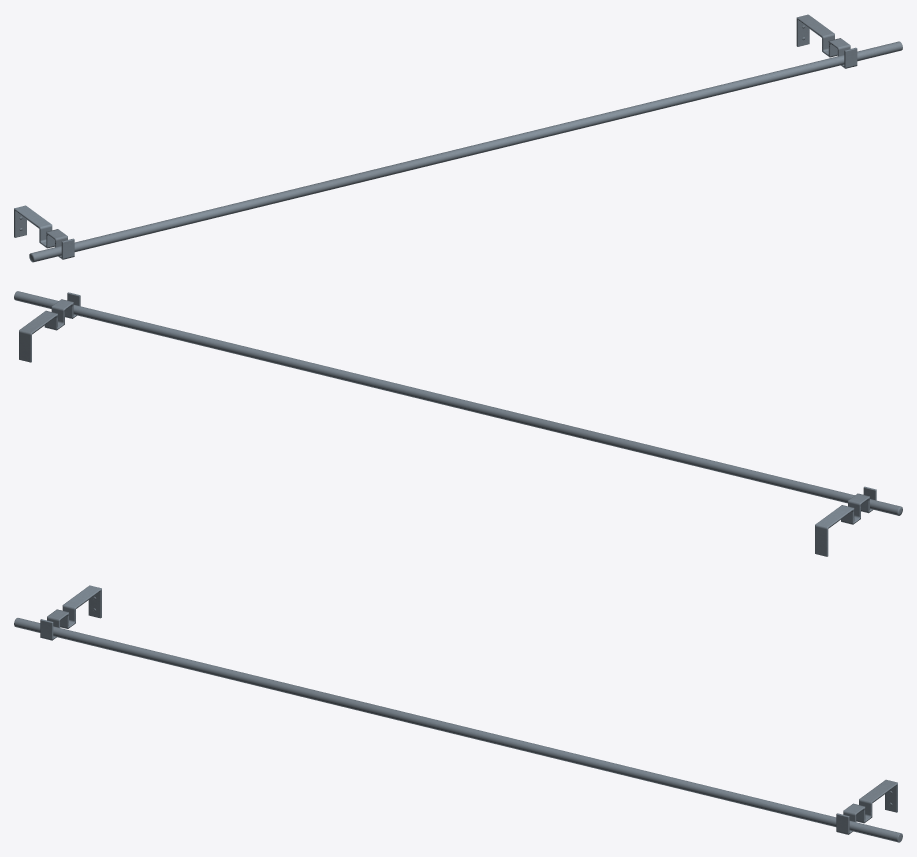
Rendered from curtain_rod4.glb.
3 views of the same model, one above another, from view 1: azimuth 30°, elevation 25°; view 2: azimuth 150°, elevation 25°; view 3: azimuth 330°, elevation 25° (orthographic).
Parts seen in each view (by area): view 1: Curtain_Rod4; view 2: Curtain_Rod4; view 3: Curtain_Rod4.
Part boxes in pixels (bbox=[...]): Curtain_Rod4: bbox=[14, 14, 902, 262]; Curtain_Rod4: bbox=[14, 291, 902, 556]; Curtain_Rod4: bbox=[14, 585, 902, 842].
Size of the model in its own units: 1.32 by 0.0443 by 0.1282.
Materials: 1 (1 with a texture image).
